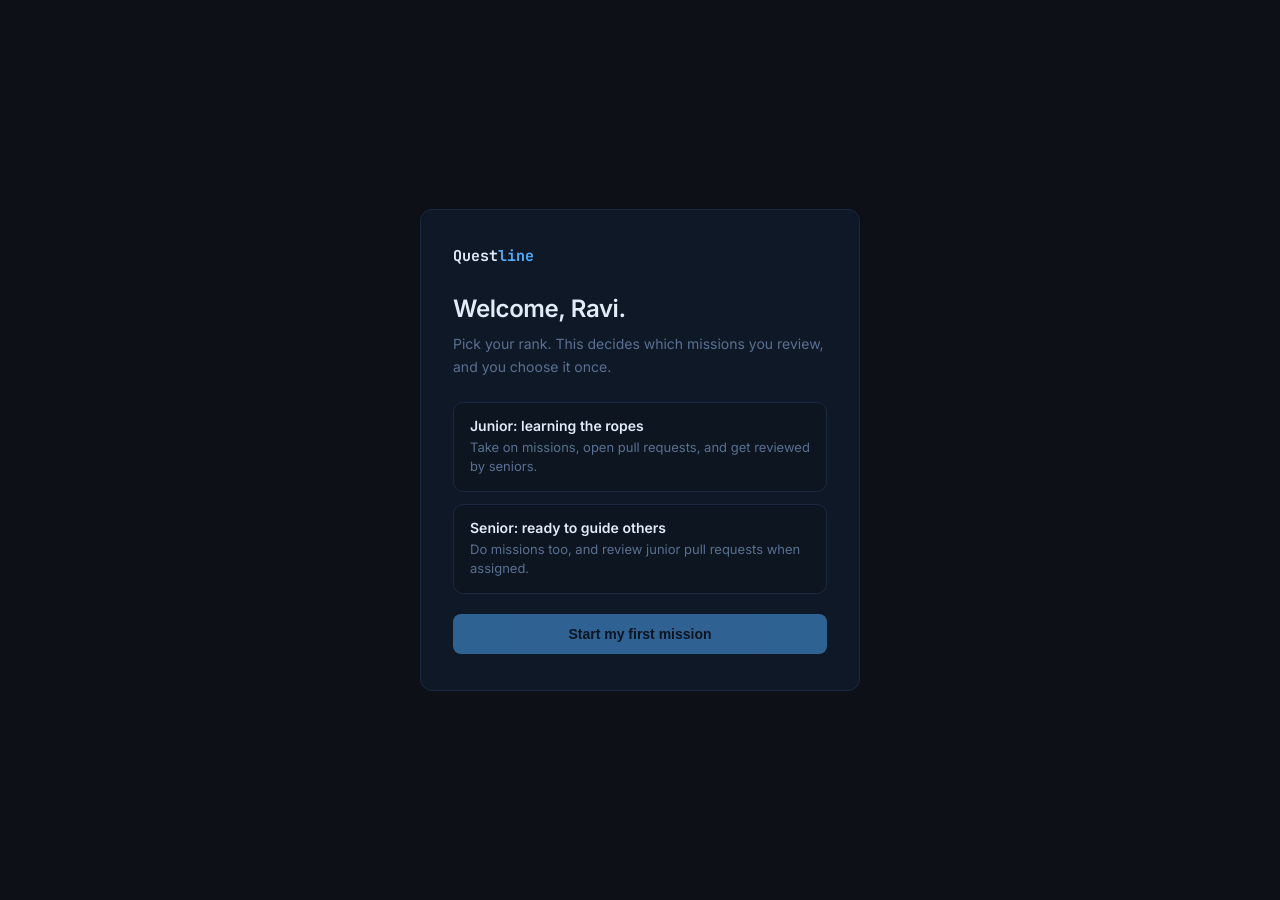
it: App sign-in flow › asks a new user to pick a level, saves it, then shows the dashboard
Expected: the button "Start my first mission" is disabled, [453,614,827,654]
What coordinates should you click on to do the following:
click the radio button labelled "Senior"
I would click on:
 (640, 549)
Its box is [453,504,827,594].
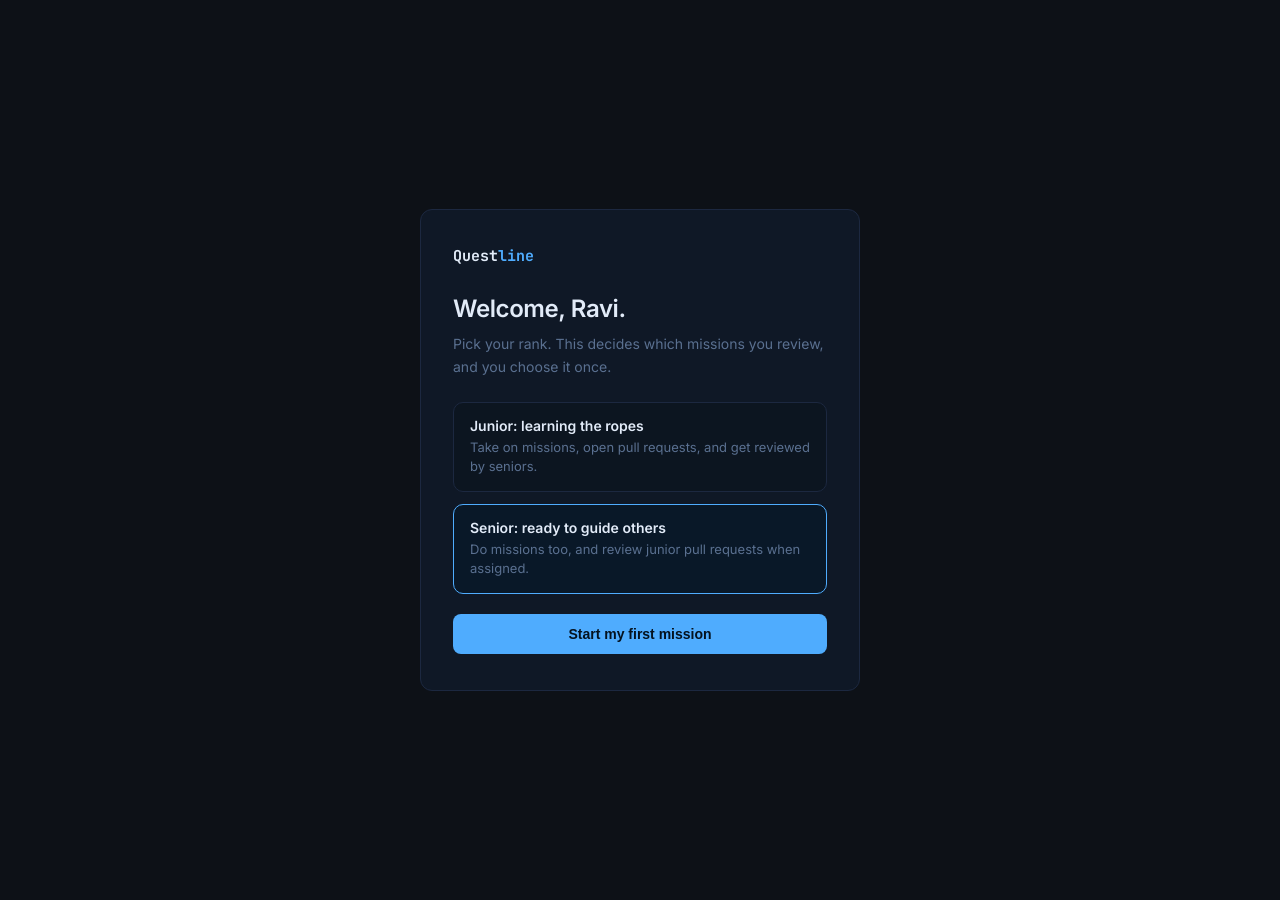
Expected: the button "Start my first mission" is enabled
What coordinates should you click on to do the following:
click the button "Start my first mission"
I would click on:
 (640, 634)
Its box is [453,614,827,654].
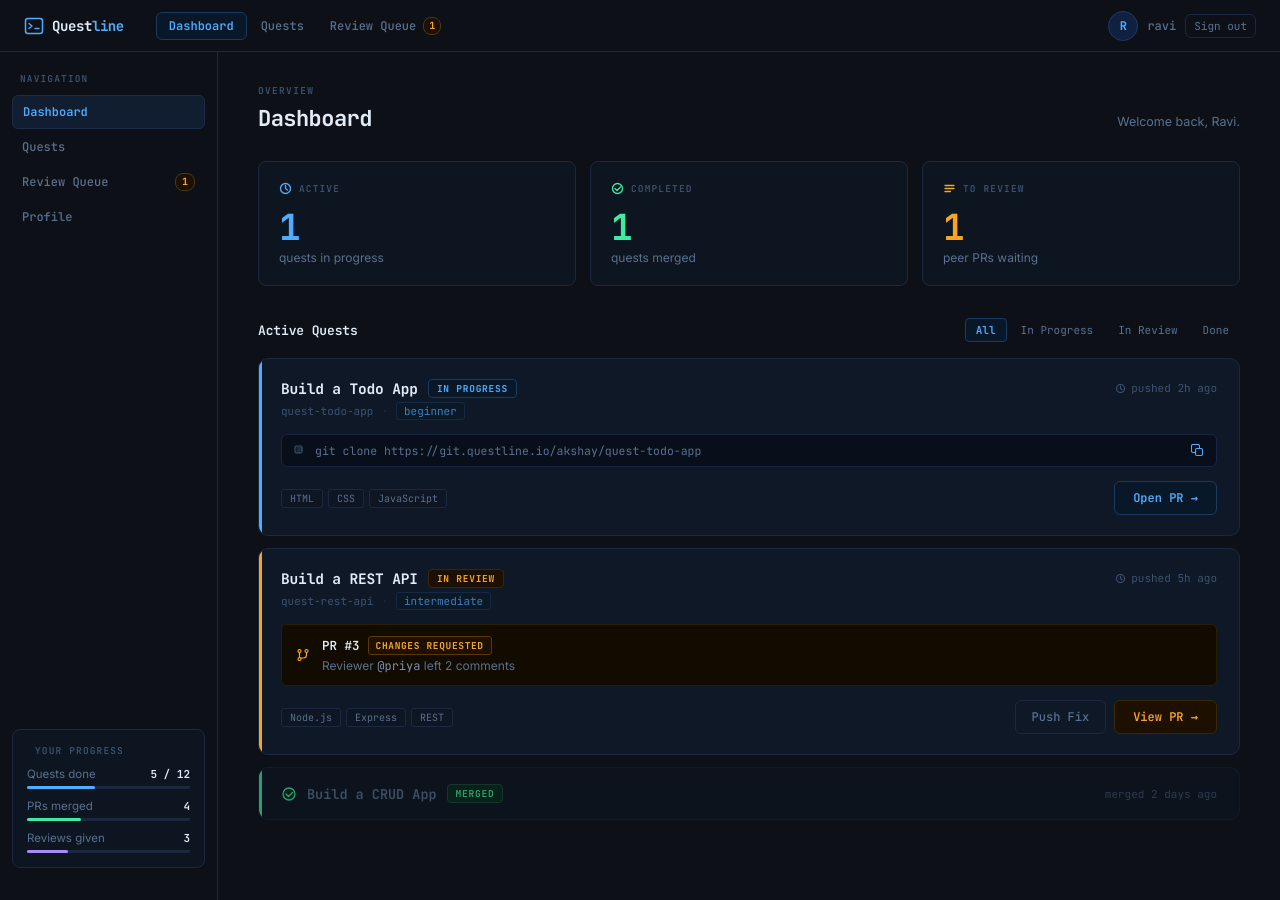
Expected: the button "Sign out" is shown, [1185,14,1256,38]
